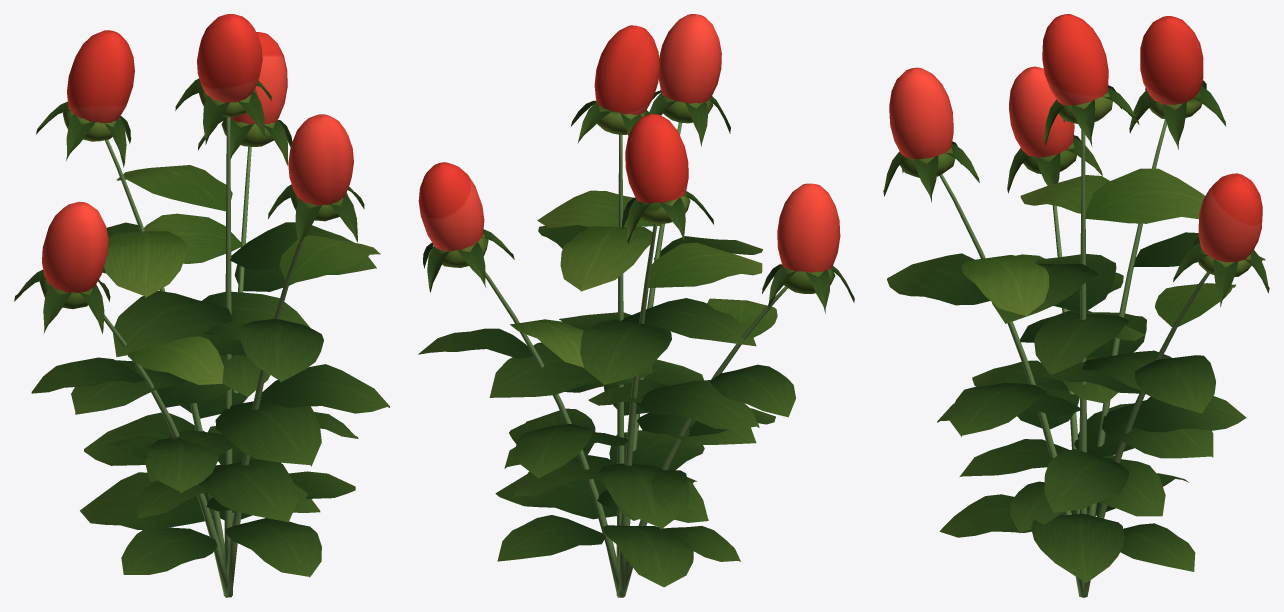
The model's file is poppy-08-lod.glb.
3 renders of one model, left to right at view 1: azimuth 30°, elevation 25°; view 2: azimuth 150°, elevation 25°; view 3: azimuth 270°, elevation 25°, orthographic. The views are drawn at different scales.
Parts seen in each view (by area): view 1: poppy_stage_08_leaf_veins.015, poppy_stage_08_poppy_petal.015, poppy_stage_08_young_leaf.015, poppy_stage_08_stem_fibres.015; view 2: poppy_stage_08_leaf_veins.015, poppy_stage_08_poppy_petal.015, poppy_stage_08_young_leaf.015, poppy_stage_08_stem_fibres.015; view 3: poppy_stage_08_leaf_veins.015, poppy_stage_08_poppy_petal.015, poppy_stage_08_young_leaf.015, poppy_stage_08_stem_fibres.015.
Boxes of the visible parts, box(x1,y1,x2,y2) form: poppy_stage_08_leaf_veins.015: box(14, 78, 389, 577); poppy_stage_08_poppy_petal.015: box(42, 14, 353, 293); poppy_stage_08_young_leaf.015: box(39, 85, 380, 384); poppy_stage_08_stem_fibres.015: box(104, 117, 304, 597); poppy_stage_08_leaf_veins.015: box(418, 90, 854, 587); poppy_stage_08_poppy_petal.015: box(418, 14, 840, 272); poppy_stage_08_young_leaf.015: box(437, 92, 835, 367); poppy_stage_08_stem_fibres.015: box(485, 122, 787, 597); poppy_stage_08_leaf_veins.015: box(883, 80, 1269, 582); poppy_stage_08_poppy_petal.015: box(889, 14, 1262, 262); poppy_stage_08_young_leaf.015: box(900, 91, 1251, 326); poppy_stage_08_stem_fibres.015: box(939, 119, 1209, 597).
Size of the model in its own units: 0.3674 by 0.5662 by 0.3432.
4 materials, 3 textured.
